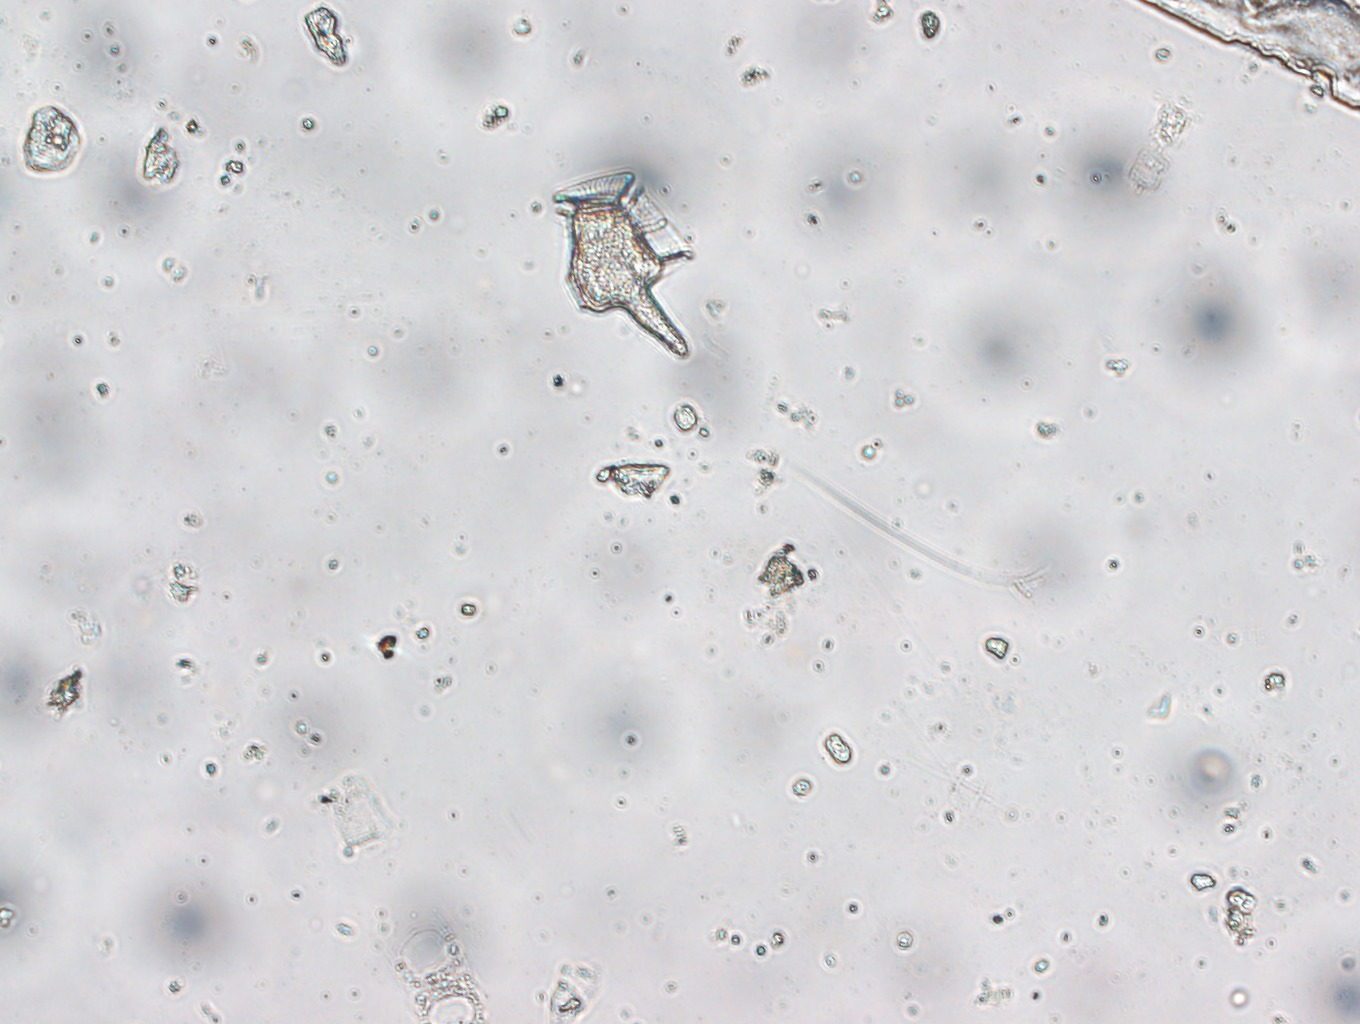dinophysis caudata: (536, 166, 695, 362)
